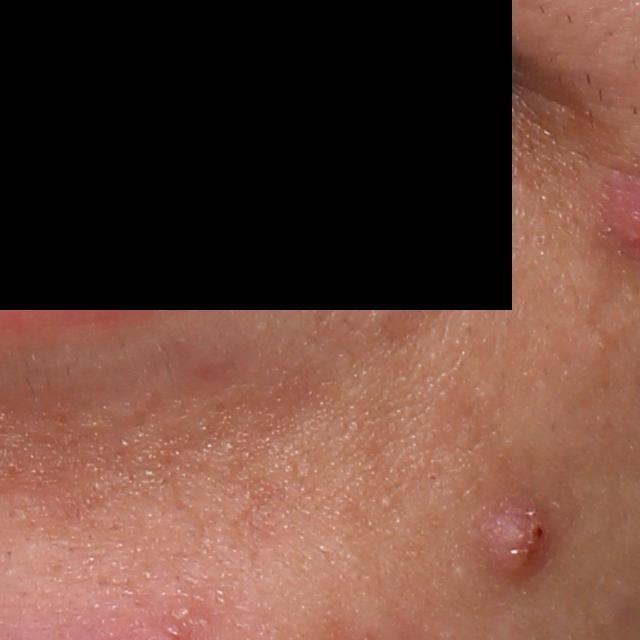comedo: (381, 493, 395, 508)
papule: (482, 510, 554, 580)
